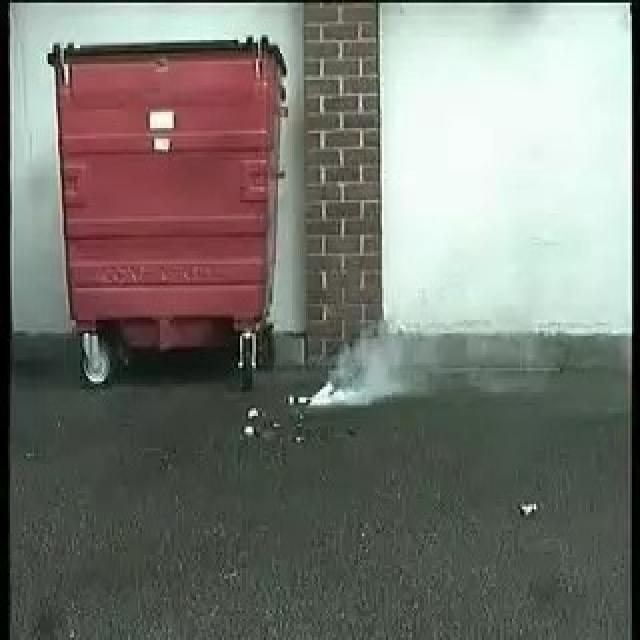smoke: (300, 326, 416, 410)
